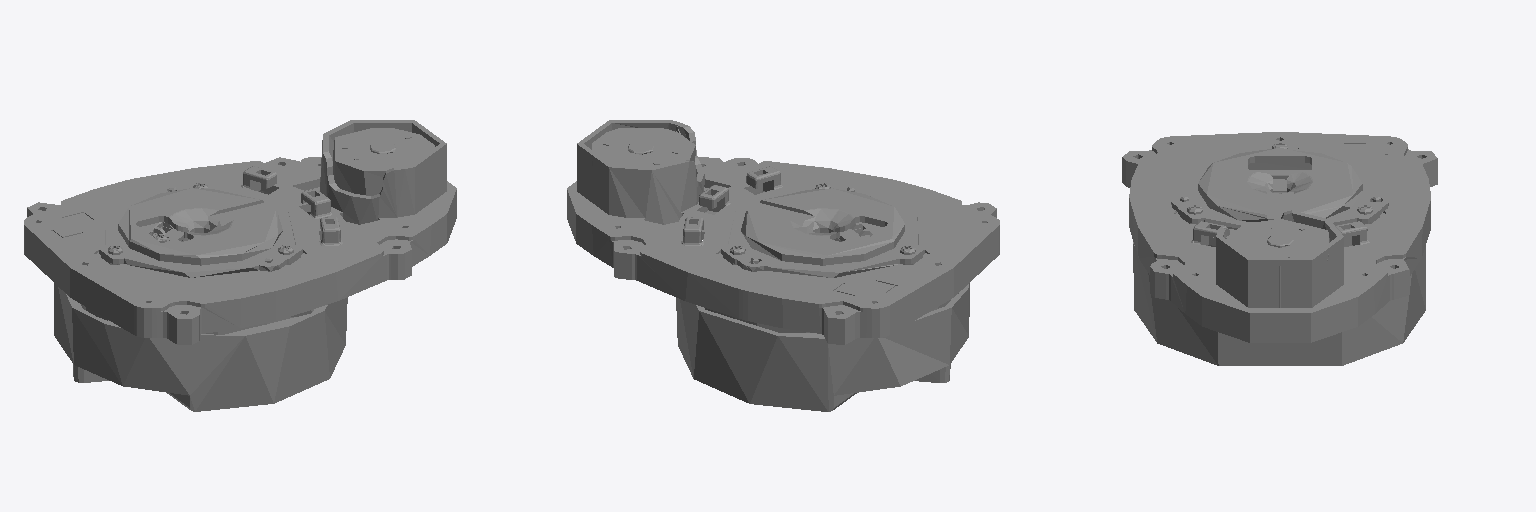
Rendered from lds.obj.
3 renders of one model, left to right at view 1: azimuth 30°, elevation 25°; view 2: azimuth 150°, elevation 25°; view 3: azimuth 270°, elevation 25°, orthographic.
Visible parts, largest first — view 1: meshId0; view 2: meshId0; view 3: meshId0.
Boxes of the visible parts, x1,y1,x2,y2 form: meshId0: [24, 120, 456, 411]; meshId0: [567, 120, 999, 411]; meshId0: [1122, 132, 1437, 365].
Size of the model in its own units: 93.85 by 39.2 by 68.88.